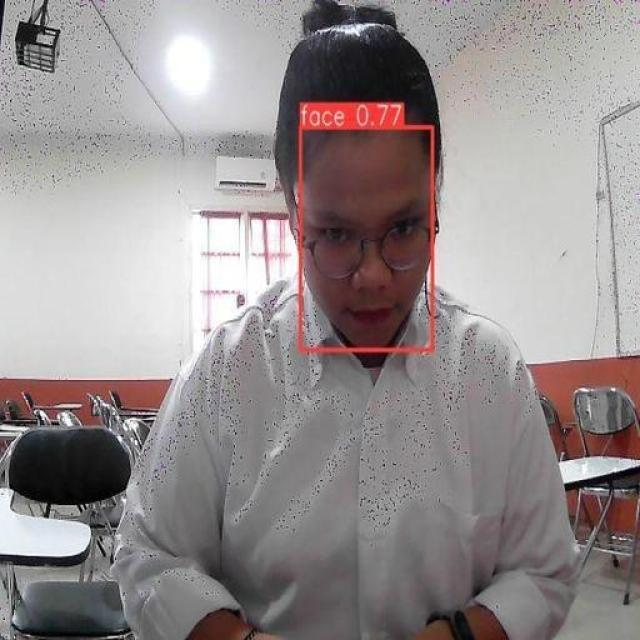bareface: (281, 42, 438, 353)
